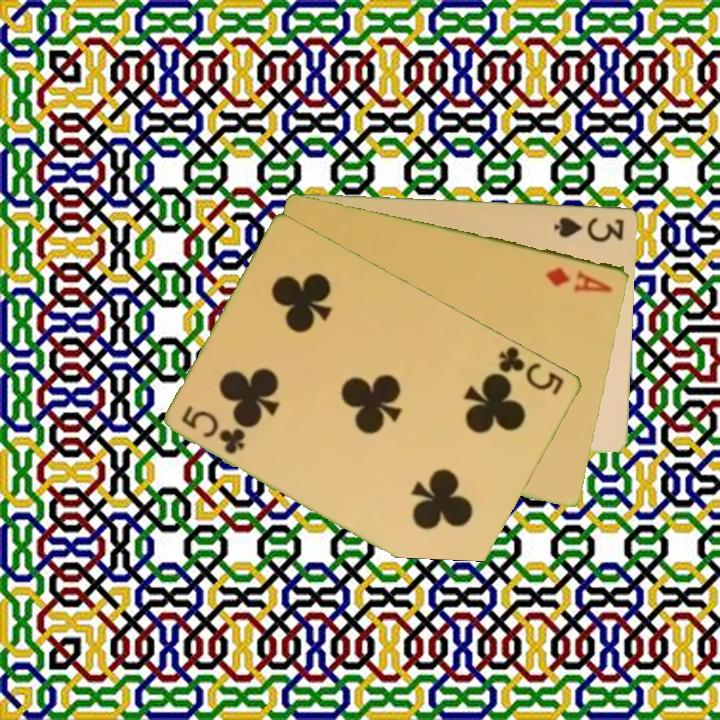3s: (551, 213, 627, 244)
5c: (495, 342, 568, 398), (178, 402, 249, 457)
Ad: (542, 263, 616, 295)
